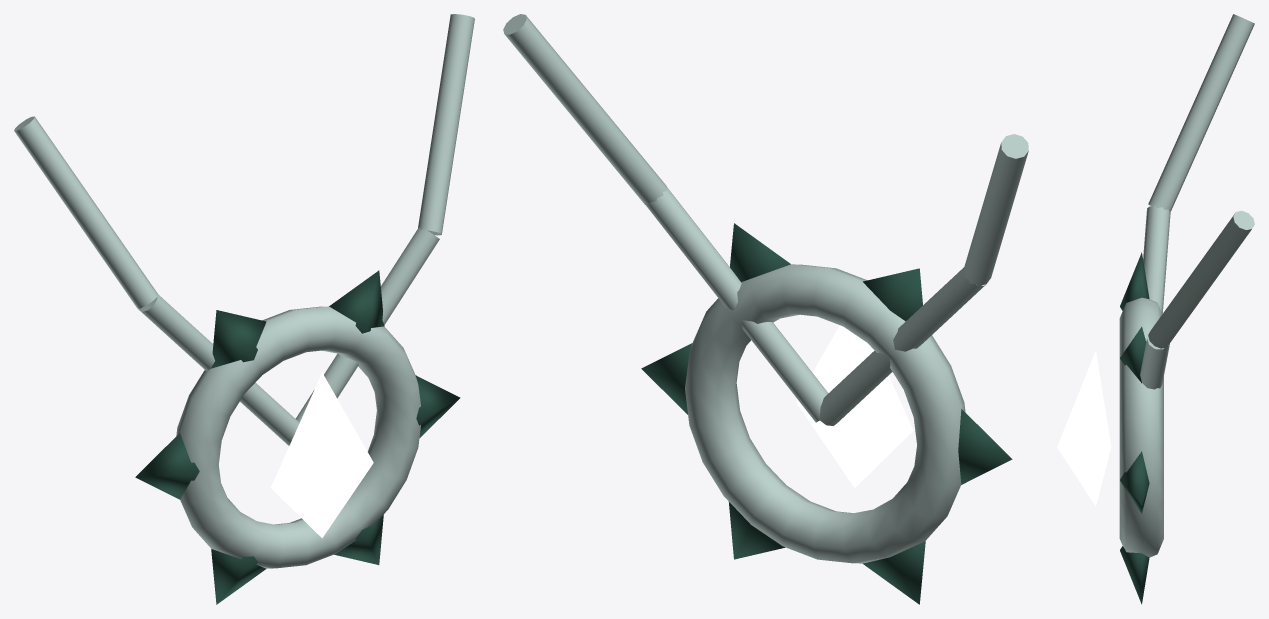
Rendered from boss_grievance_of_the_fairy_accessory_3.glb.
3 renders of one model, left to right at view 1: azimuth 30°, elevation 25°; view 2: azimuth 150°, elevation 25°; view 3: azimuth 270°, elevation 25°, orthographic. The views are drawn at different scales.
Visible parts, largest first — view 1: Boss_grievance_of_the_fairy_1, Boss_grievance_of_the_fairy_0, Boss_grievance_of_the_fairy_2; view 2: Boss_grievance_of_the_fairy_1, Boss_grievance_of_the_fairy_0, Boss_grievance_of_the_fairy_2; view 3: Boss_grievance_of_the_fairy_1, Boss_grievance_of_the_fairy_2, Boss_grievance_of_the_fairy_0.
Part boxes in pixels (x1=…): Boss_grievance_of_the_fairy_1: x1=14, y1=14, x2=474, y2=568; Boss_grievance_of_the_fairy_0: x1=135, y1=270, x2=460, y2=604; Boss_grievance_of_the_fairy_2: x1=271, y1=372, x2=373, y2=538; Boss_grievance_of_the_fairy_1: x1=503, y1=14, x2=1028, y2=563; Boss_grievance_of_the_fairy_0: x1=641, y1=223, x2=1012, y2=604; Boss_grievance_of_the_fairy_2: x1=796, y1=325, x2=913, y2=487; Boss_grievance_of_the_fairy_1: x1=1119, y1=14, x2=1254, y2=557; Boss_grievance_of_the_fairy_2: x1=1057, y1=350, x2=1111, y2=506; Boss_grievance_of_the_fairy_0: x1=1120, y1=252, x2=1149, y2=604.
Size of the model in its own units: 0.2925 by 0.2941 by 0.1162.
